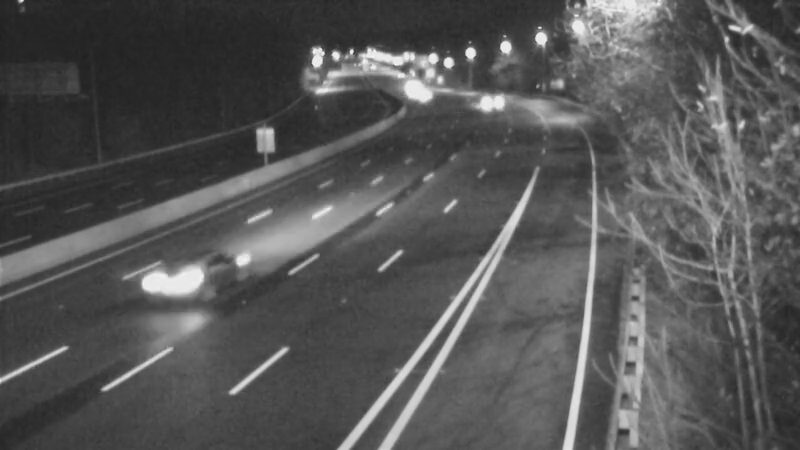vehicle: (150, 233, 230, 313), (389, 69, 439, 119), (398, 70, 448, 120), (453, 74, 503, 124)
